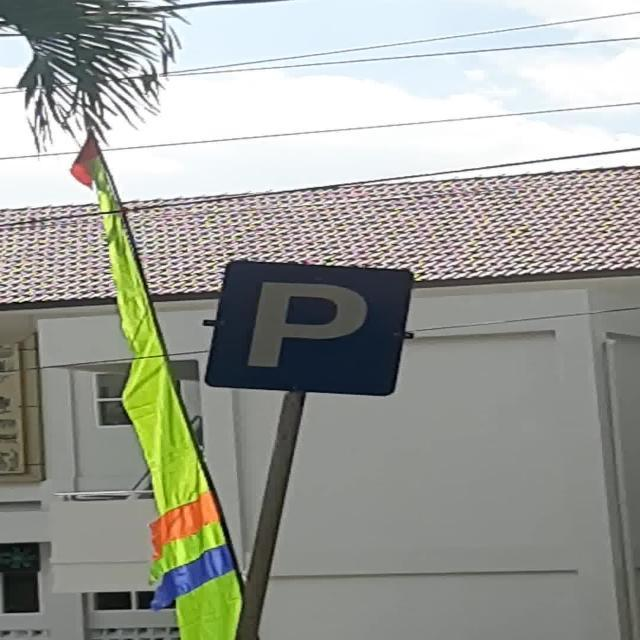Tempat Parkir: (203, 260, 414, 396)
